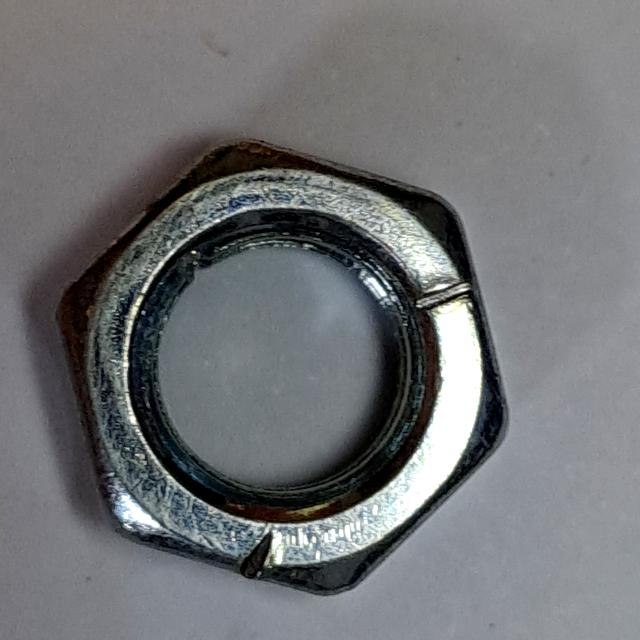Scratches: (44, 113, 522, 612)
